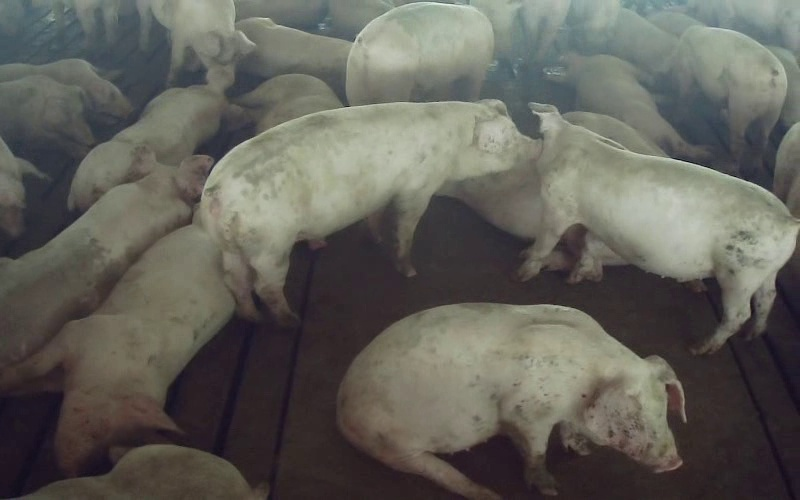pig: (195, 100, 537, 324), (517, 104, 799, 351), (337, 303, 685, 499), (0, 225, 234, 475), (0, 147, 212, 368), (68, 65, 248, 209), (674, 27, 786, 175), (346, 2, 493, 105)
